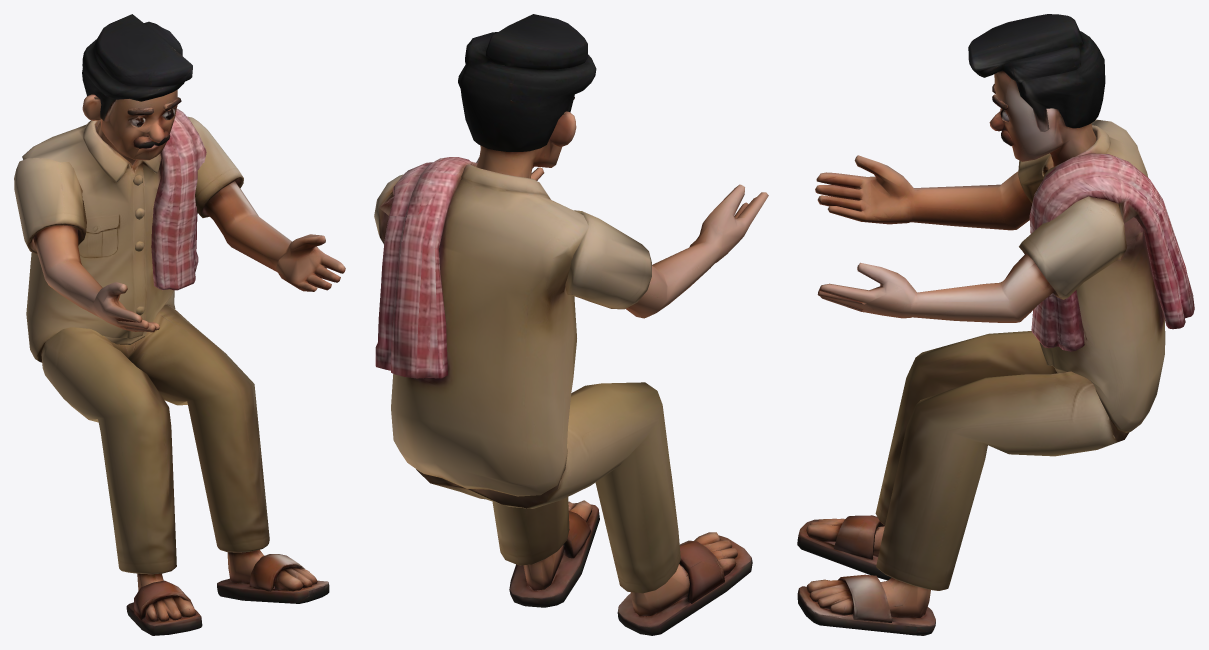
The model's file is namma_auto_hero_seated.glb.
3 views of the same model, side by side, from view 1: azimuth 30°, elevation 25°; view 2: azimuth 150°, elevation 25°; view 3: azimuth 270°, elevation 25° (orthographic). The views are drawn at different scales.
Visible parts, largest first — view 1: geometry_0; view 2: geometry_0; view 3: geometry_0.
Boxes of the visible parts, <box> form: geometry_0: <box>14,14,345,635</box>; geometry_0: <box>374,14,768,635</box>; geometry_0: <box>797,14,1194,635</box>.
Bounding box in the file's own units: 0.6012 × 1.39 × 0.861.
1 material, 1 textured.
